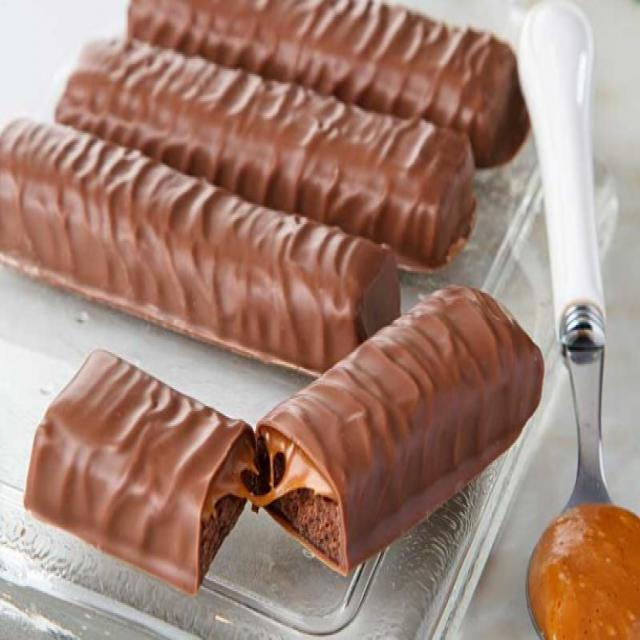Chocolate bar packaged: (22, 288, 542, 603), (1, 120, 404, 382), (54, 34, 484, 276)
